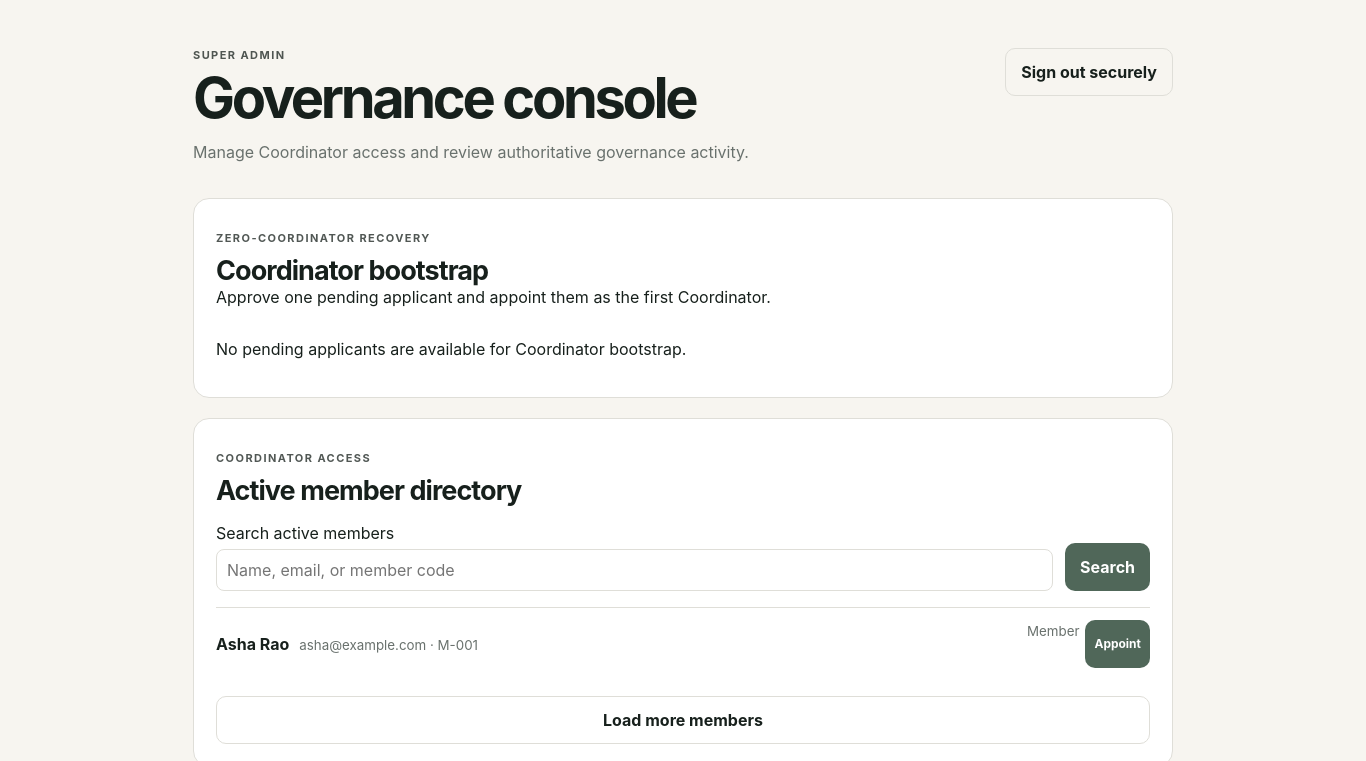
Test: SuperAdminConsole › searches and paginates coordinators, then requires confirmation, a reason, and reauthentication to appoint one
Expected: the text "Asha Rao" is shown, [216,634,289,654]
Type "asha" into the field labelled "Search active members". click: (634, 570)
box: [216,549,1053,591]
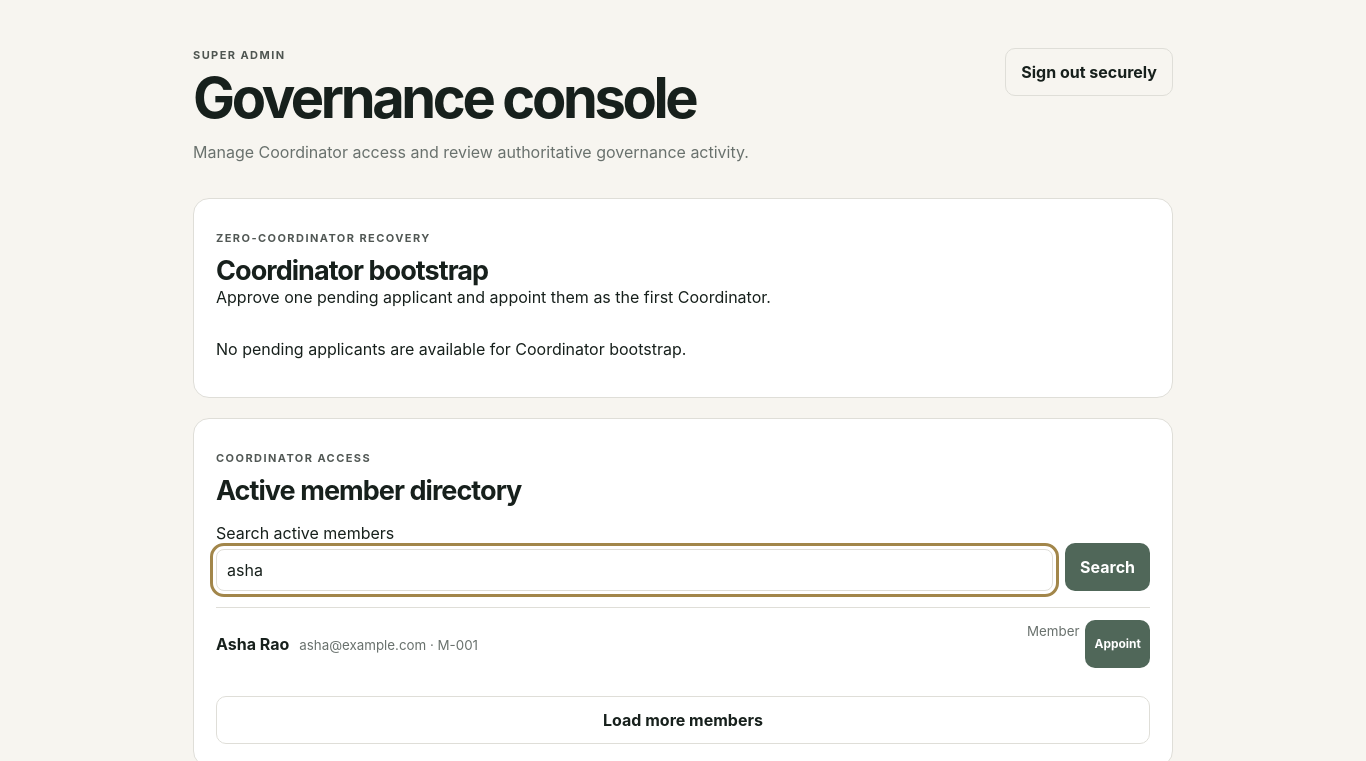
Click the button "Search". click: (1108, 567)
box: [1065,543,1150,591]
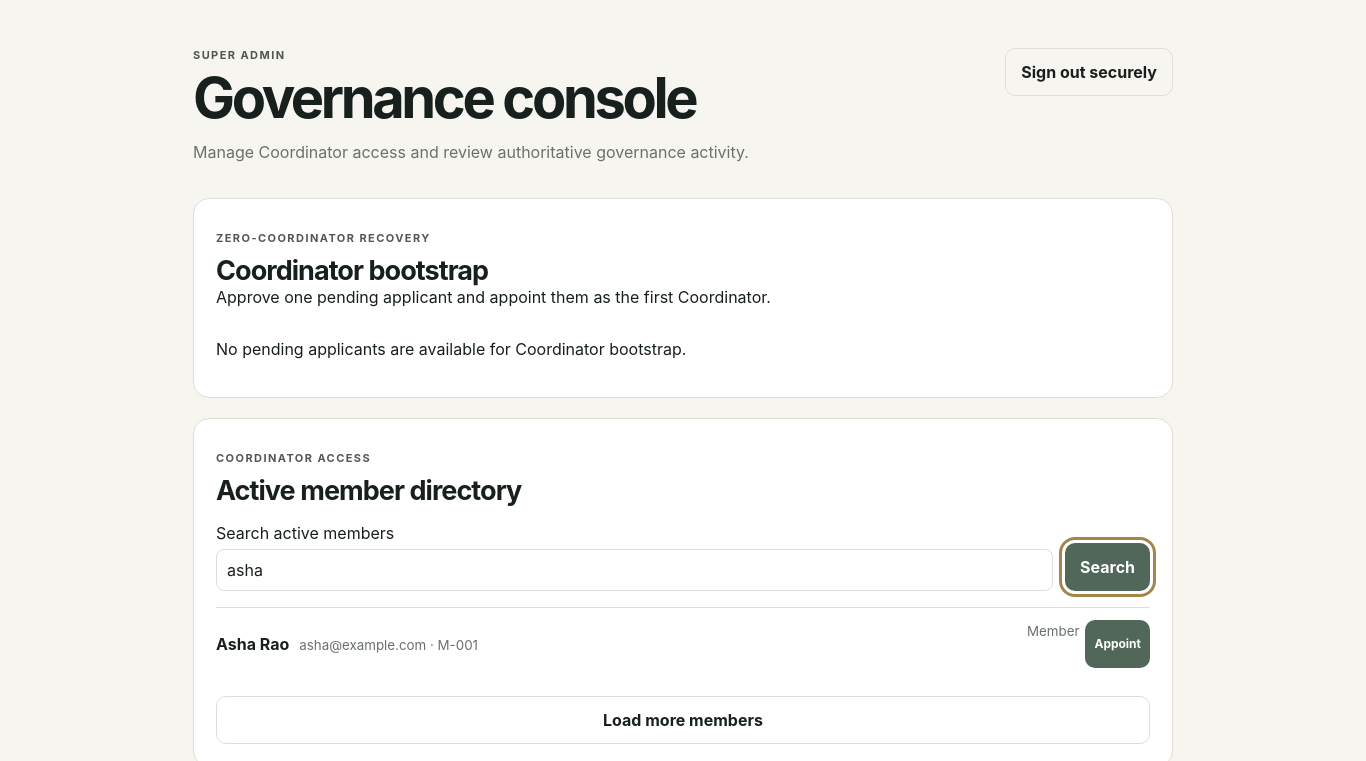
Click the button "Load more members". click: (683, 720)
box: [216,696,1150,744]
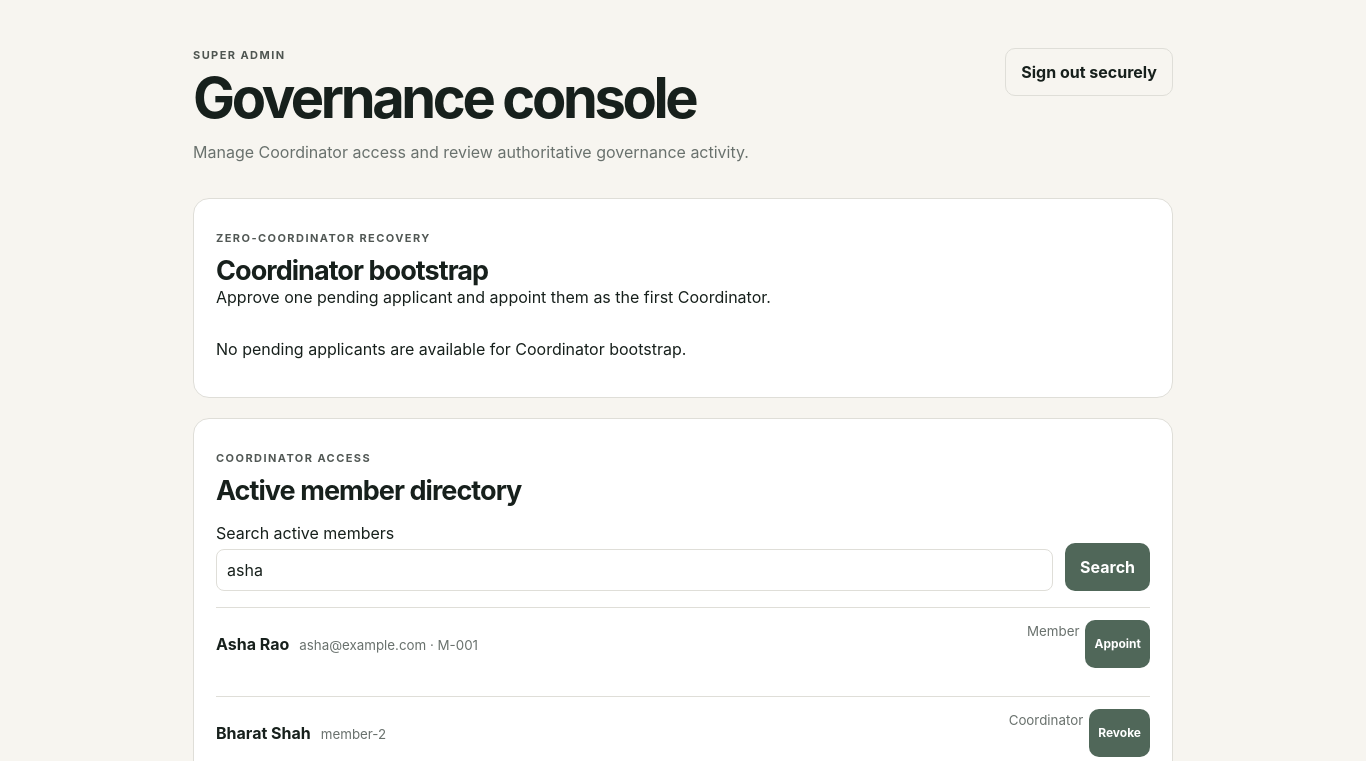
Result: the text "Bharat Shah" is shown at [216,723,311,743]
Click the button with aria-label "Appoint Coordinator for Asha Rao". click: (1118, 644)
box: [1085,620,1150,668]
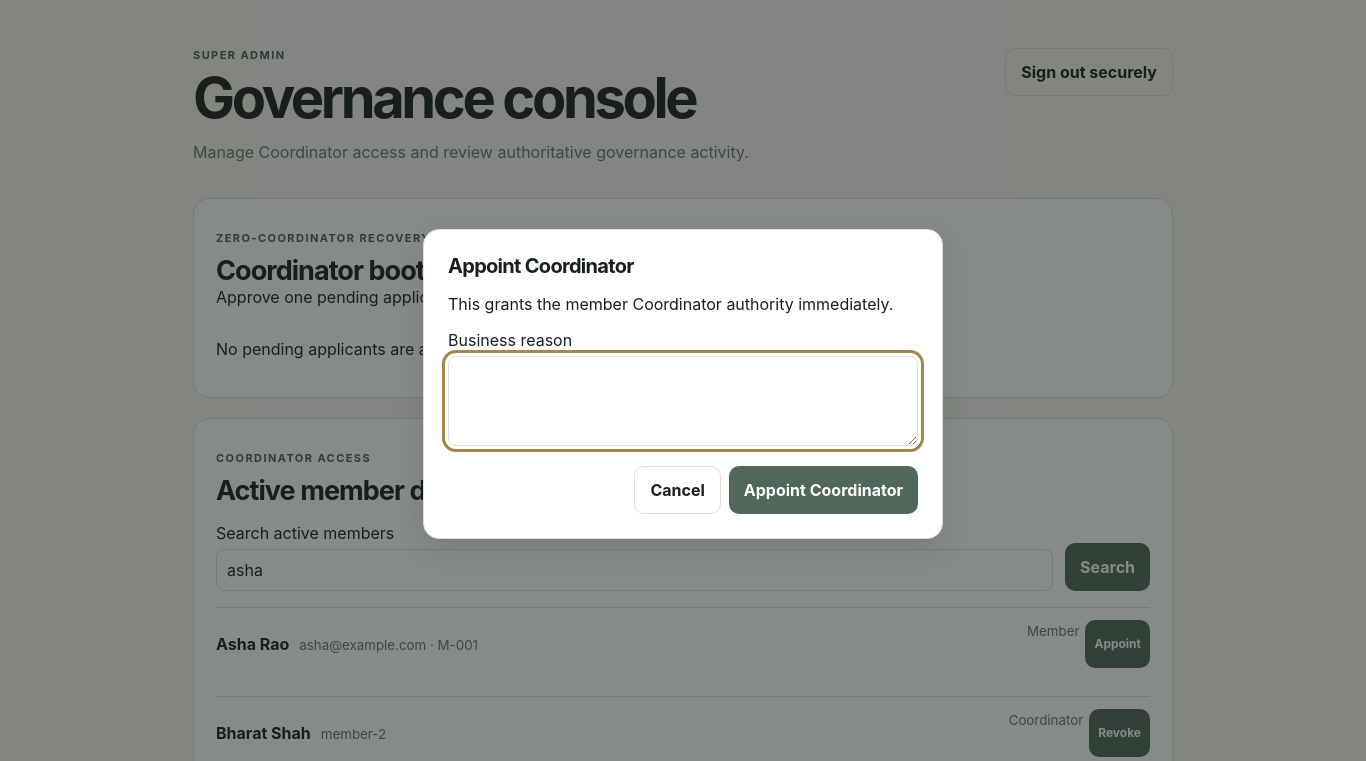
Result: the button "Appoint Coordinator" is disabled at [729,466,918,514]
Type "Regional support coverage" into the text box labelled "Business reason". click: (683, 401)
box: [448,356,918,446]
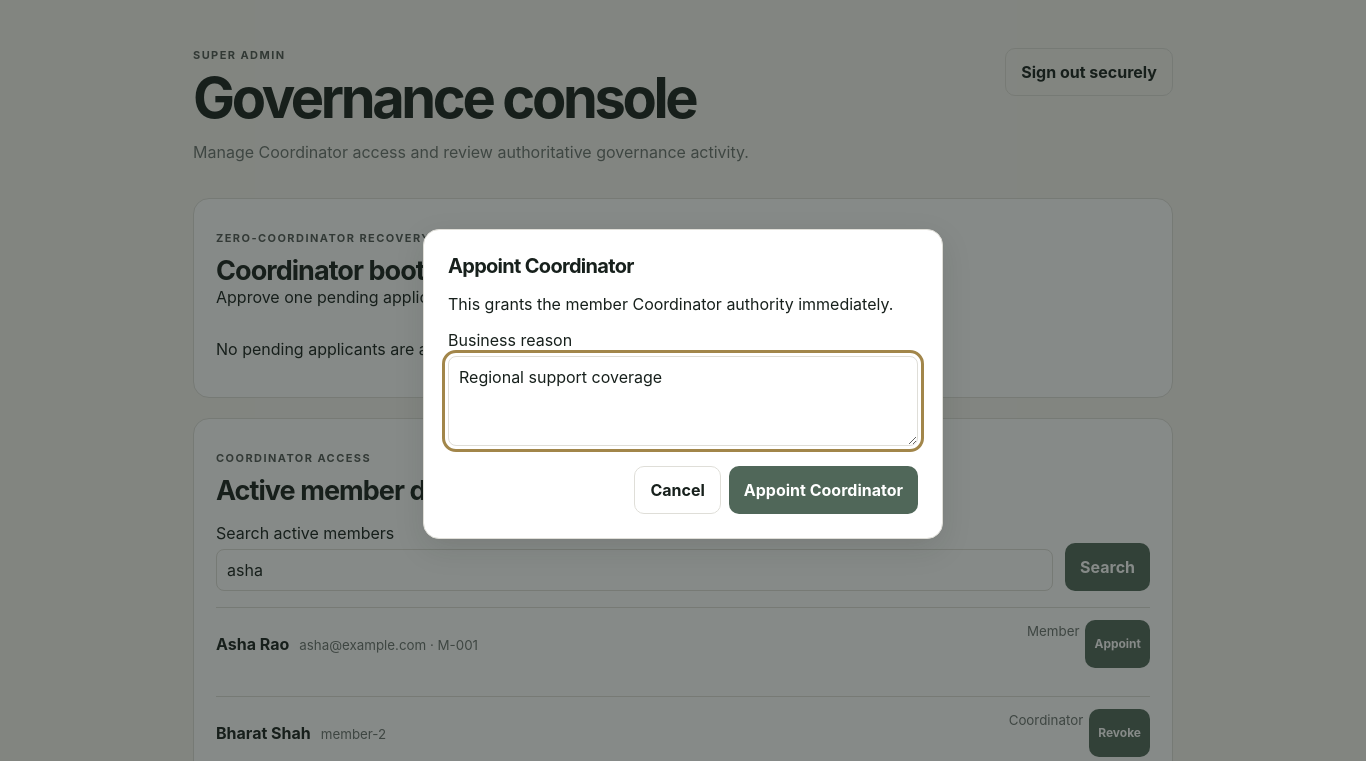
Click the button "Appoint Coordinator". click: (823, 490)
box: [729,466,918,514]
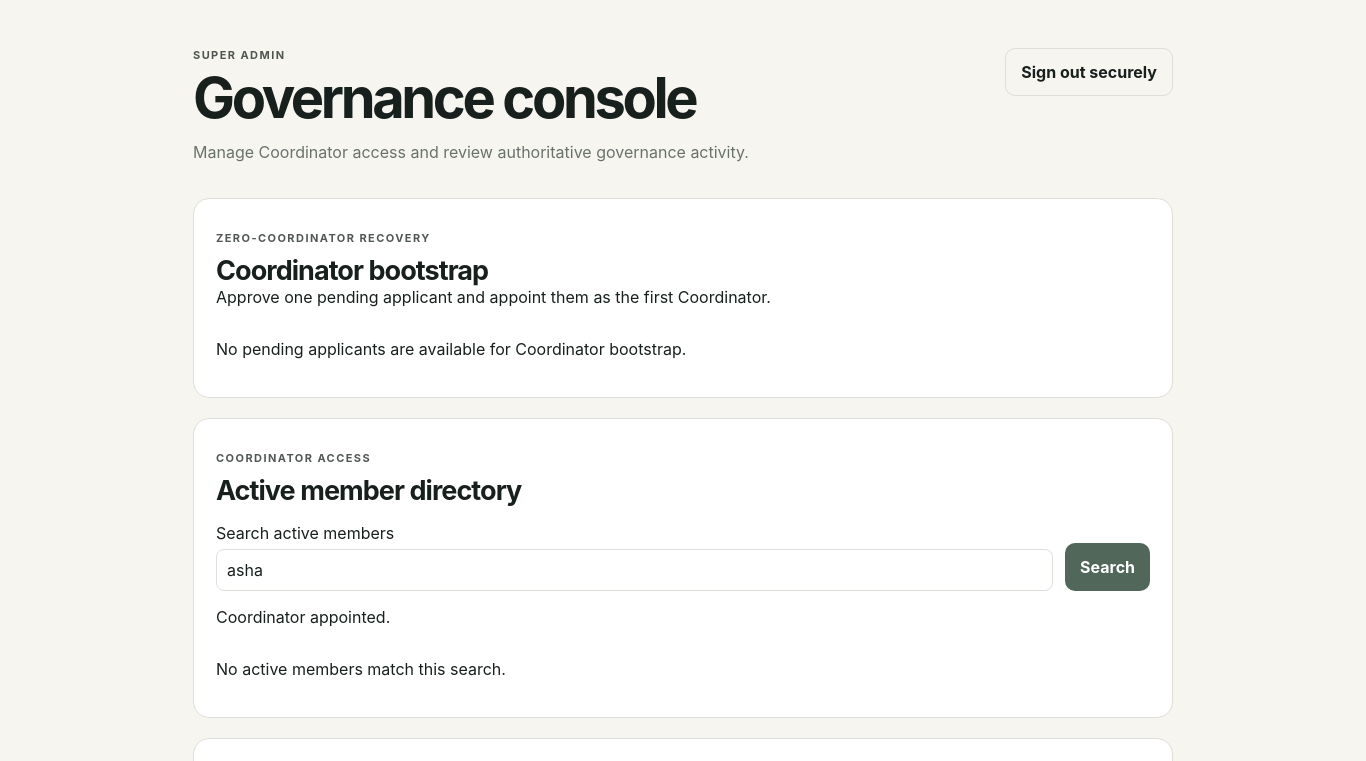
Result: the message reads "Coordinator appointed." at [216,607,390,627]
